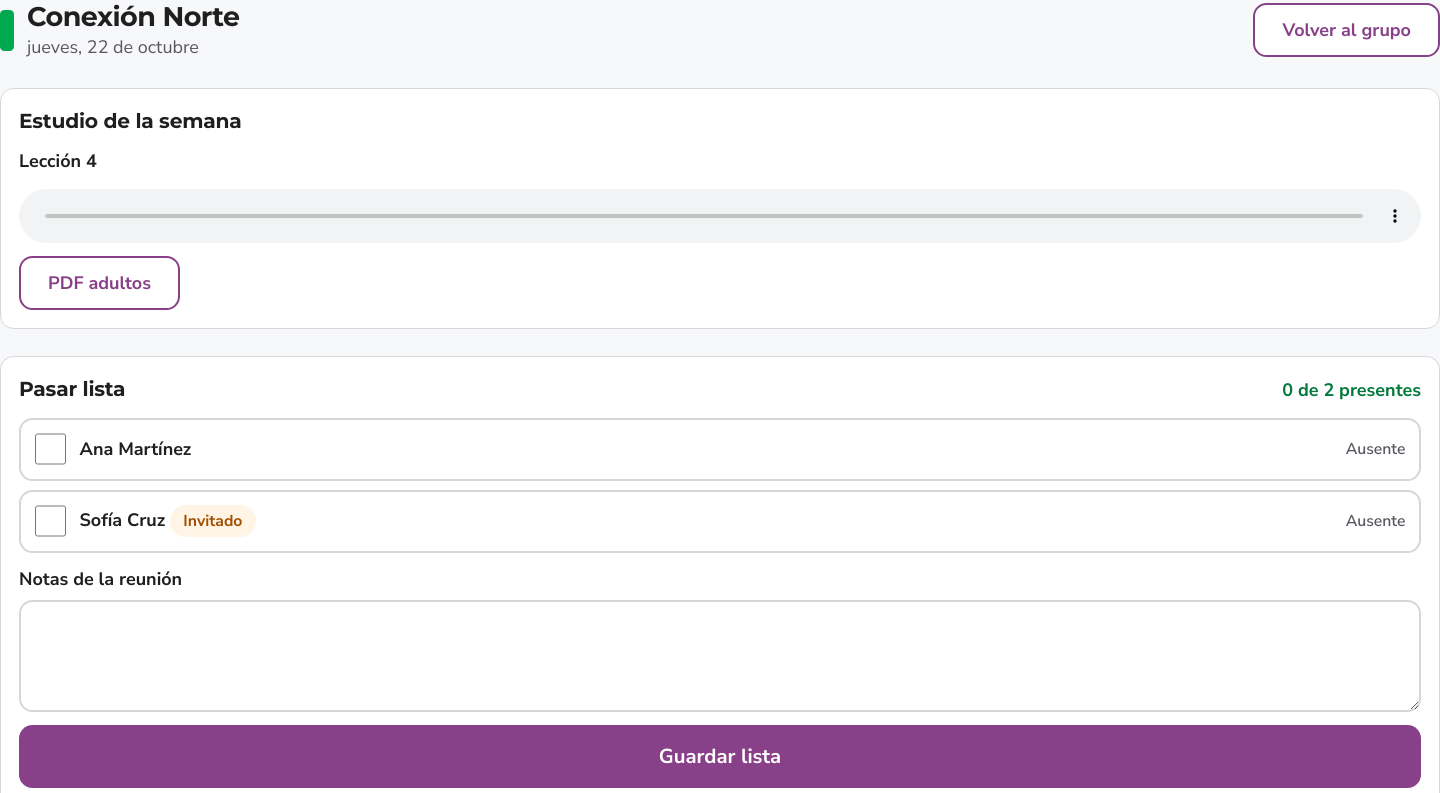
Test: ReunionPage › marca presentes, cuenta y guarda la lista
Expected: the text "Lección 4" is shown, [19,149,97,173]
Expected: the text "Invitado" is shown, [170,505,256,537]
Click the checkbox labelled "Ana Martínez Ausente" at {"x": 50, "y": 449}, box [34,433,66,465]
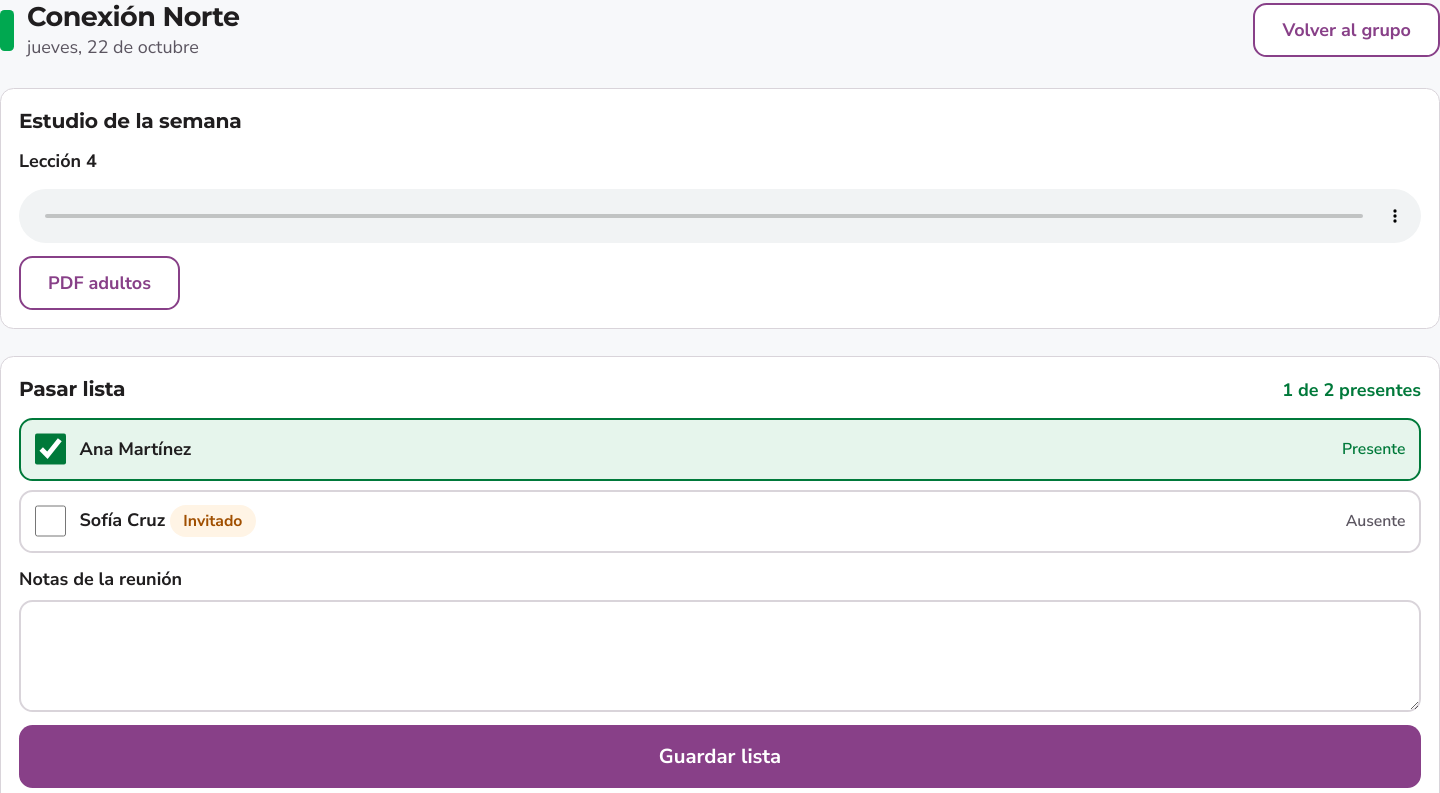
Click the checkbox labelled "Sofía Cruz Invitado Ausente" at {"x": 50, "y": 521}, box [34,505,66,537]
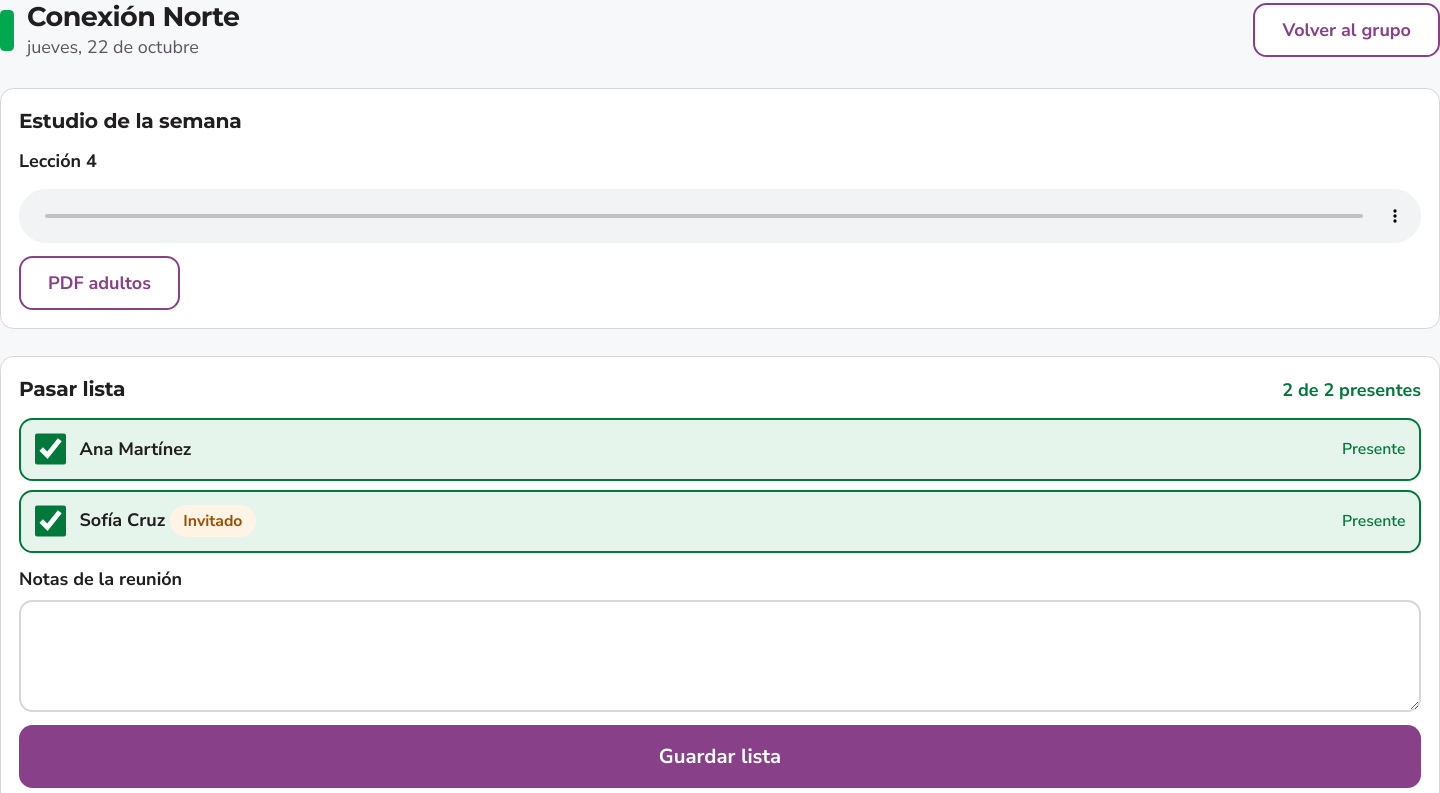
Expected: the text "2 de 2 presentes" is shown, [1282,377,1421,404]
Click the button "Guardar lista" at {"x": 720, "y": 757}, box [19,725,1421,788]
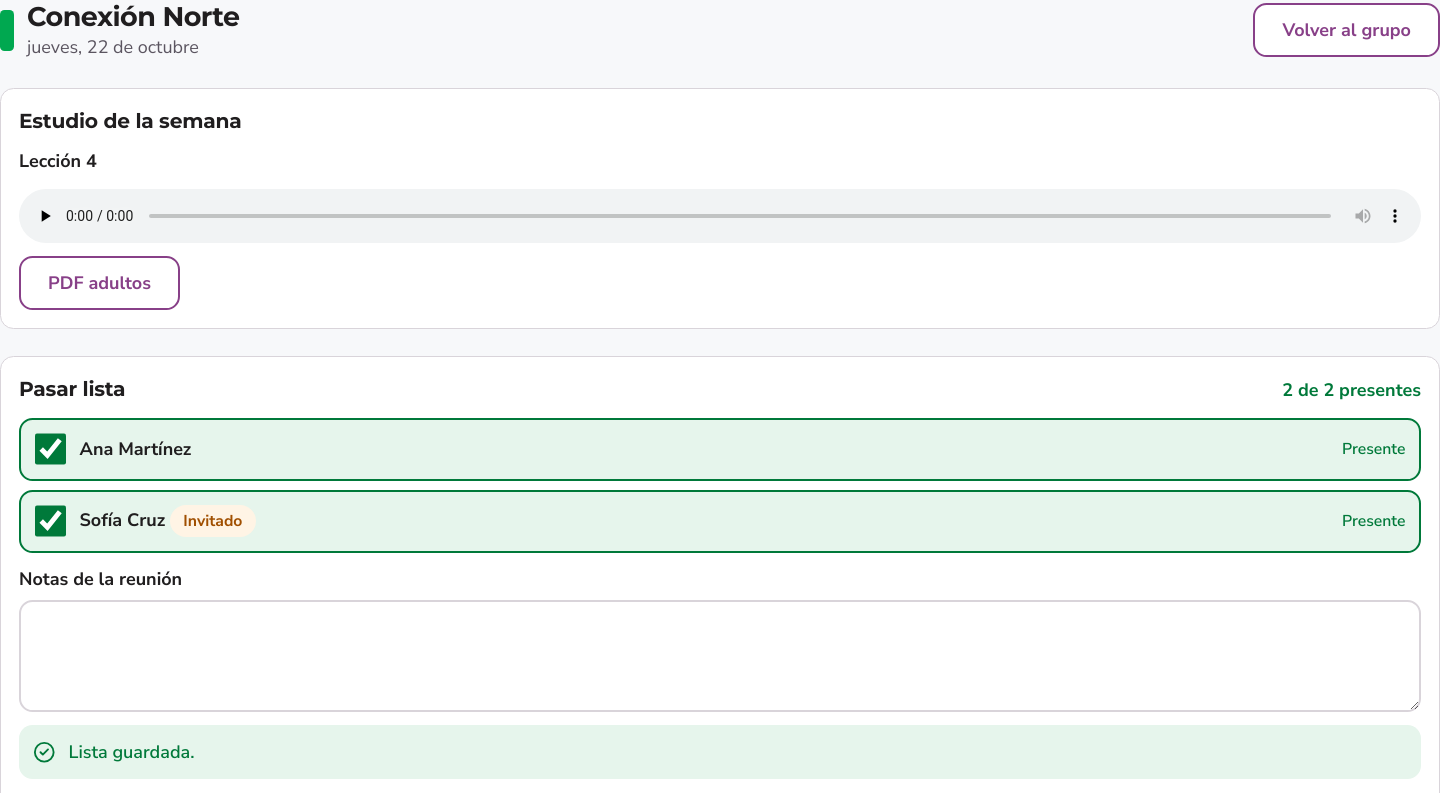
Expected: the text "Lista guardada." is shown, [68,739,194,766]
